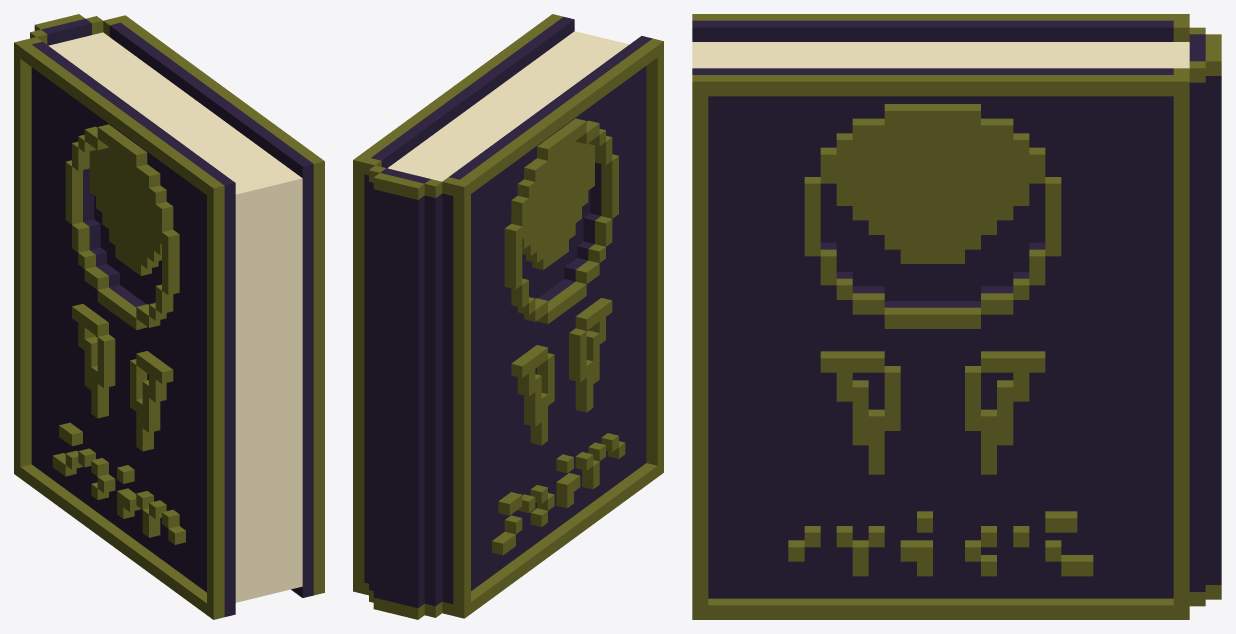
File: MagicBook1.obj
3 views of the same model, side by side, from view 1: azimuth 30°, elevation 25°; view 2: azimuth 150°, elevation 25°; view 3: azimuth 270°, elevation 25° (orthographic). The views are drawn at different scales.
Parts seen in each view (by area): view 1: MagicBook1; view 2: MagicBook1; view 3: MagicBook1.
Part boxes in pixels (x1,y1,x2,y2): MagicBook1: (14,14,324,619); MagicBook1: (353,14,663,619); MagicBook1: (692,14,1221,619).
Bounding box in the file's own units: 10 × 37 × 33.
Materials: 1 (1 with a texture image).
